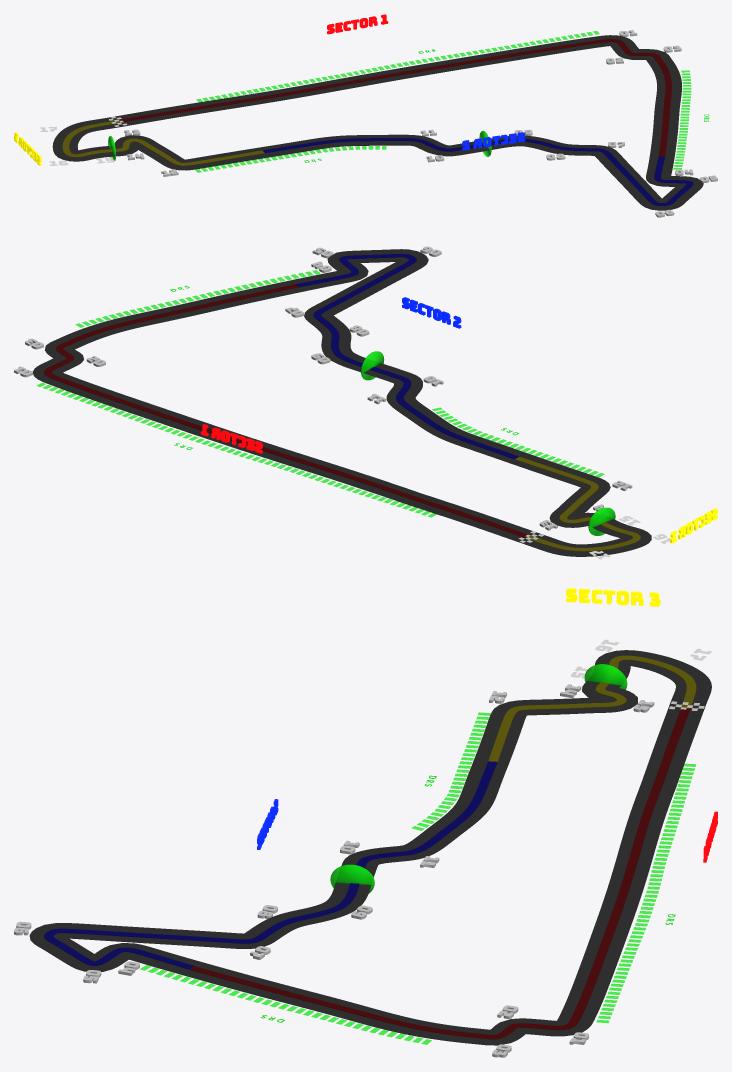
The model's file is rodriguez.gltf.
The picture shows the model from 3 angles, top to bottom: view 1: azimuth 30°, elevation 25°; view 2: azimuth 150°, elevation 25°; view 3: azimuth 270°, elevation 25°; orthographic projection. The views are drawn at different scales.
Visible parts, largest first — view 1: track plane, track plane.004, track plane.001, DRSPlane1.002, track plane.002, DRSPlane1.003, DRSPlane1.001, Text.001, Text; view 2: track plane, track plane.004, track plane.001, DRSPlane1.002, track plane.002, DRSPlane1.003, DRSPlane1.001, Text, Text.001, Text.002; view 3: track plane, track plane.004, track plane.001, DRSPlane1.002, track plane.002, DRSPlane1.003, DRSPlane1.001, Text.002, DrsDetect1.003.
Boxes of the visible parts, x1,y1,x2,y2 form: track plane: [52, 35, 703, 210]; track plane.004: [119, 39, 671, 156]; track plane.001: [262, 138, 693, 205]; DRSPlane1.002: [196, 31, 599, 102]; track plane.002: [62, 120, 264, 165]; DRSPlane1.003: [673, 70, 691, 169]; DRSPlane1.001: [195, 146, 386, 172]; Text.001: [462, 132, 525, 150]; Text: [327, 14, 388, 34]; track plane: [33, 249, 651, 556]; track plane.004: [43, 284, 527, 537]; track plane.001: [296, 253, 518, 459]; DRSPlane1.002: [36, 382, 436, 517]; track plane.002: [515, 456, 640, 551]; DRSPlane1.003: [75, 270, 320, 327]; DRSPlane1.001: [432, 407, 604, 477]; Text: [200, 424, 262, 453]; Text.001: [402, 297, 461, 328]; Text.002: [670, 508, 717, 543]; track plane: [29, 650, 711, 1045]; track plane.004: [189, 708, 690, 1039]; track plane.001: [44, 761, 497, 969]; DRSPlane1.002: [596, 763, 696, 1023]; track plane.002: [488, 655, 696, 761]; DRSPlane1.003: [140, 965, 431, 1044]; DRSPlane1.001: [411, 712, 490, 830]; Text.002: [566, 588, 660, 606]; DrsDetect1.003: [330, 864, 374, 893].
Size of the model in its own units: 108 by 7.57 by 73.9.
